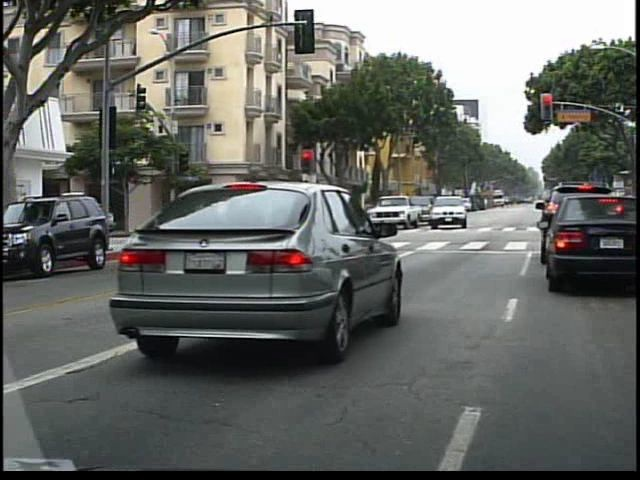person: (193, 191, 211, 238), (213, 193, 232, 234)
